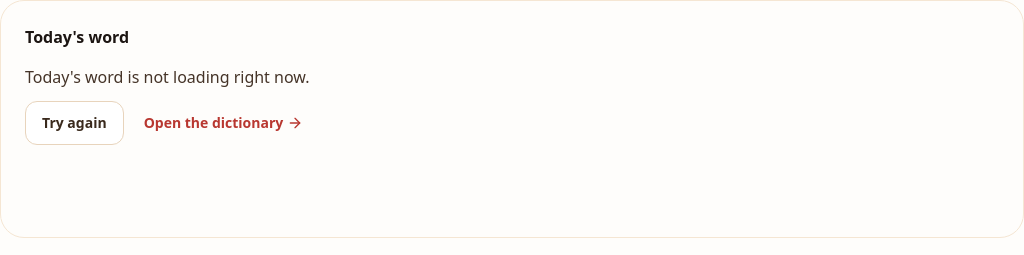
Test: public word of the day › keeps a calm retry and a dictionary link when the word cannot load
Expected: the message reads "Today's word is not loading right now.", [25,66,310,88]
Click the button "Try again": (74, 123) [25,101,124,145]
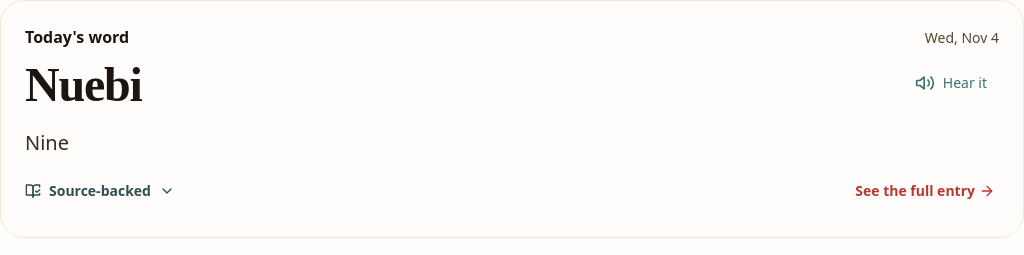
Expected: the text "Nuebi" is shown, [25,61,142,109]
